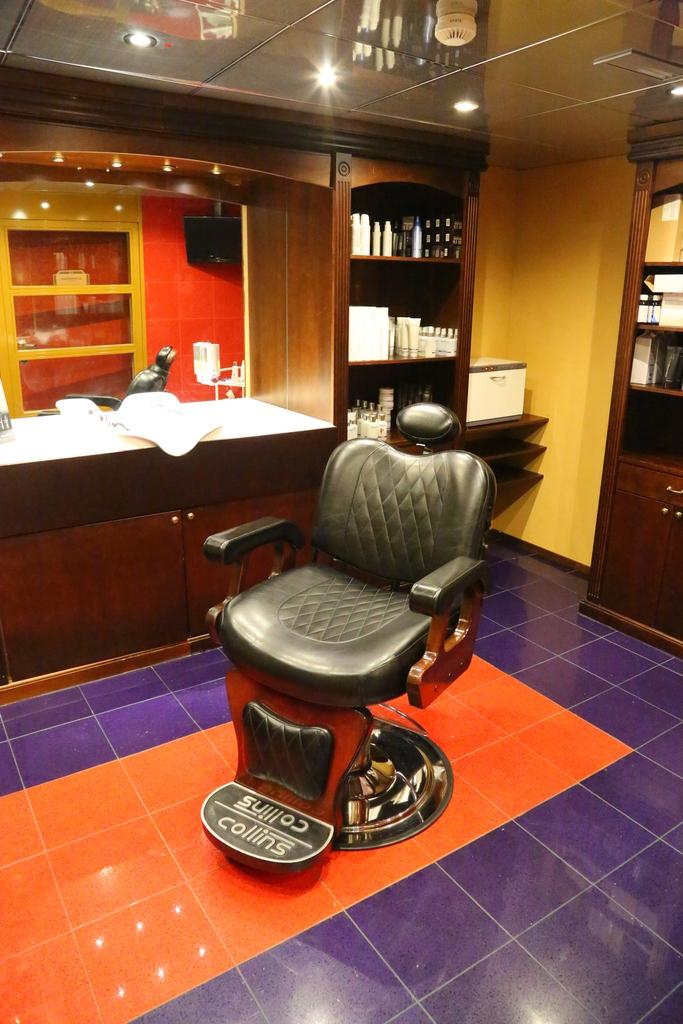Chair: (177, 422, 503, 890)
